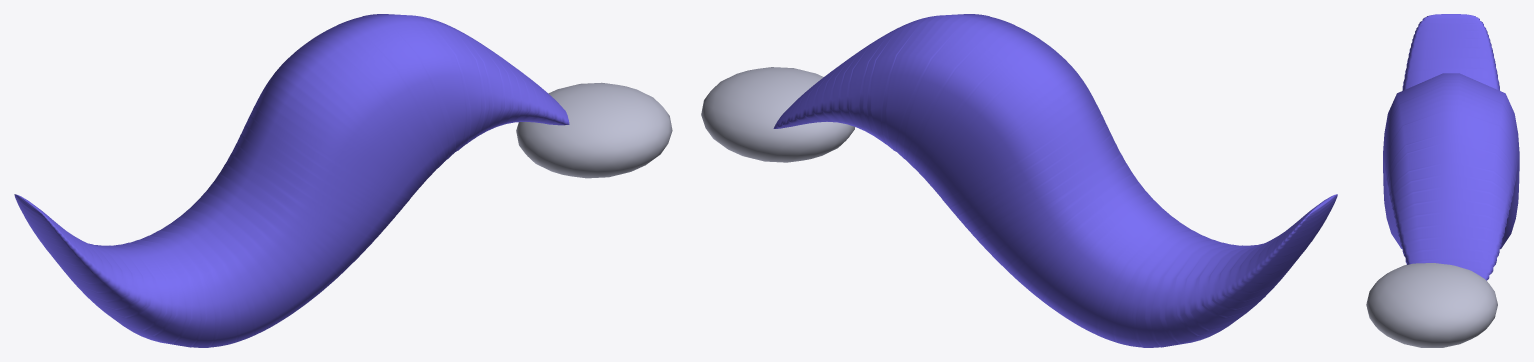
The model's file is squire_plume.glb.
3 renders of one model, left to right at view 1: azimuth 30°, elevation 25°; view 2: azimuth 150°, elevation 25°; view 3: azimuth 270°, elevation 25°, orthographic. The views are drawn at different scales.
Parts seen in each view (by area): view 1: squire_plume__plume, squire_plume__socket; view 2: squire_plume__plume, squire_plume__socket; view 3: squire_plume__plume, squire_plume__socket.
Boxes of the visible parts, left/top/right/bottom form: squire_plume__plume: left=14, top=14, right=569, bottom=347; squire_plume__socket: left=516, top=82, right=672, bottom=178; squire_plume__plume: left=773, top=14, right=1337, bottom=347; squire_plume__socket: left=701, top=67, right=855, bottom=162; squire_plume__plume: left=1383, top=14, right=1519, bottom=280; squire_plume__socket: left=1366, top=263, right=1497, bottom=347.
Size of the model in its own units: 1.28 by 0.5296 by 0.305.
